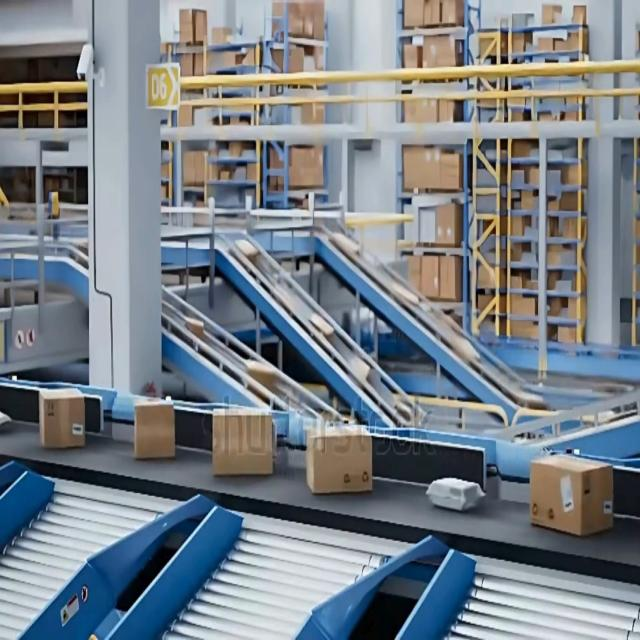product 1: (304, 419, 372, 495), (212, 409, 274, 476), (134, 401, 176, 459)
product 2: (428, 474, 478, 518)
